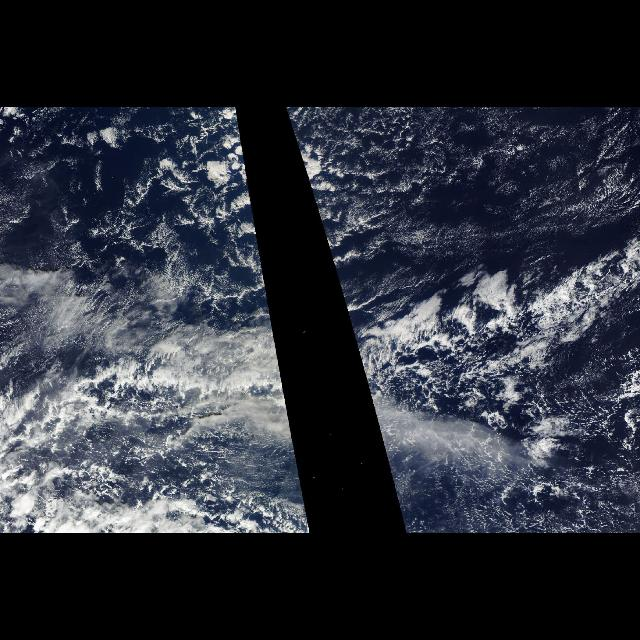Fish: (330, 254, 640, 426), (282, 378, 292, 426)
Gravel: (285, 111, 639, 534), (2, 111, 278, 534)
Sugar: (394, 109, 640, 245)
